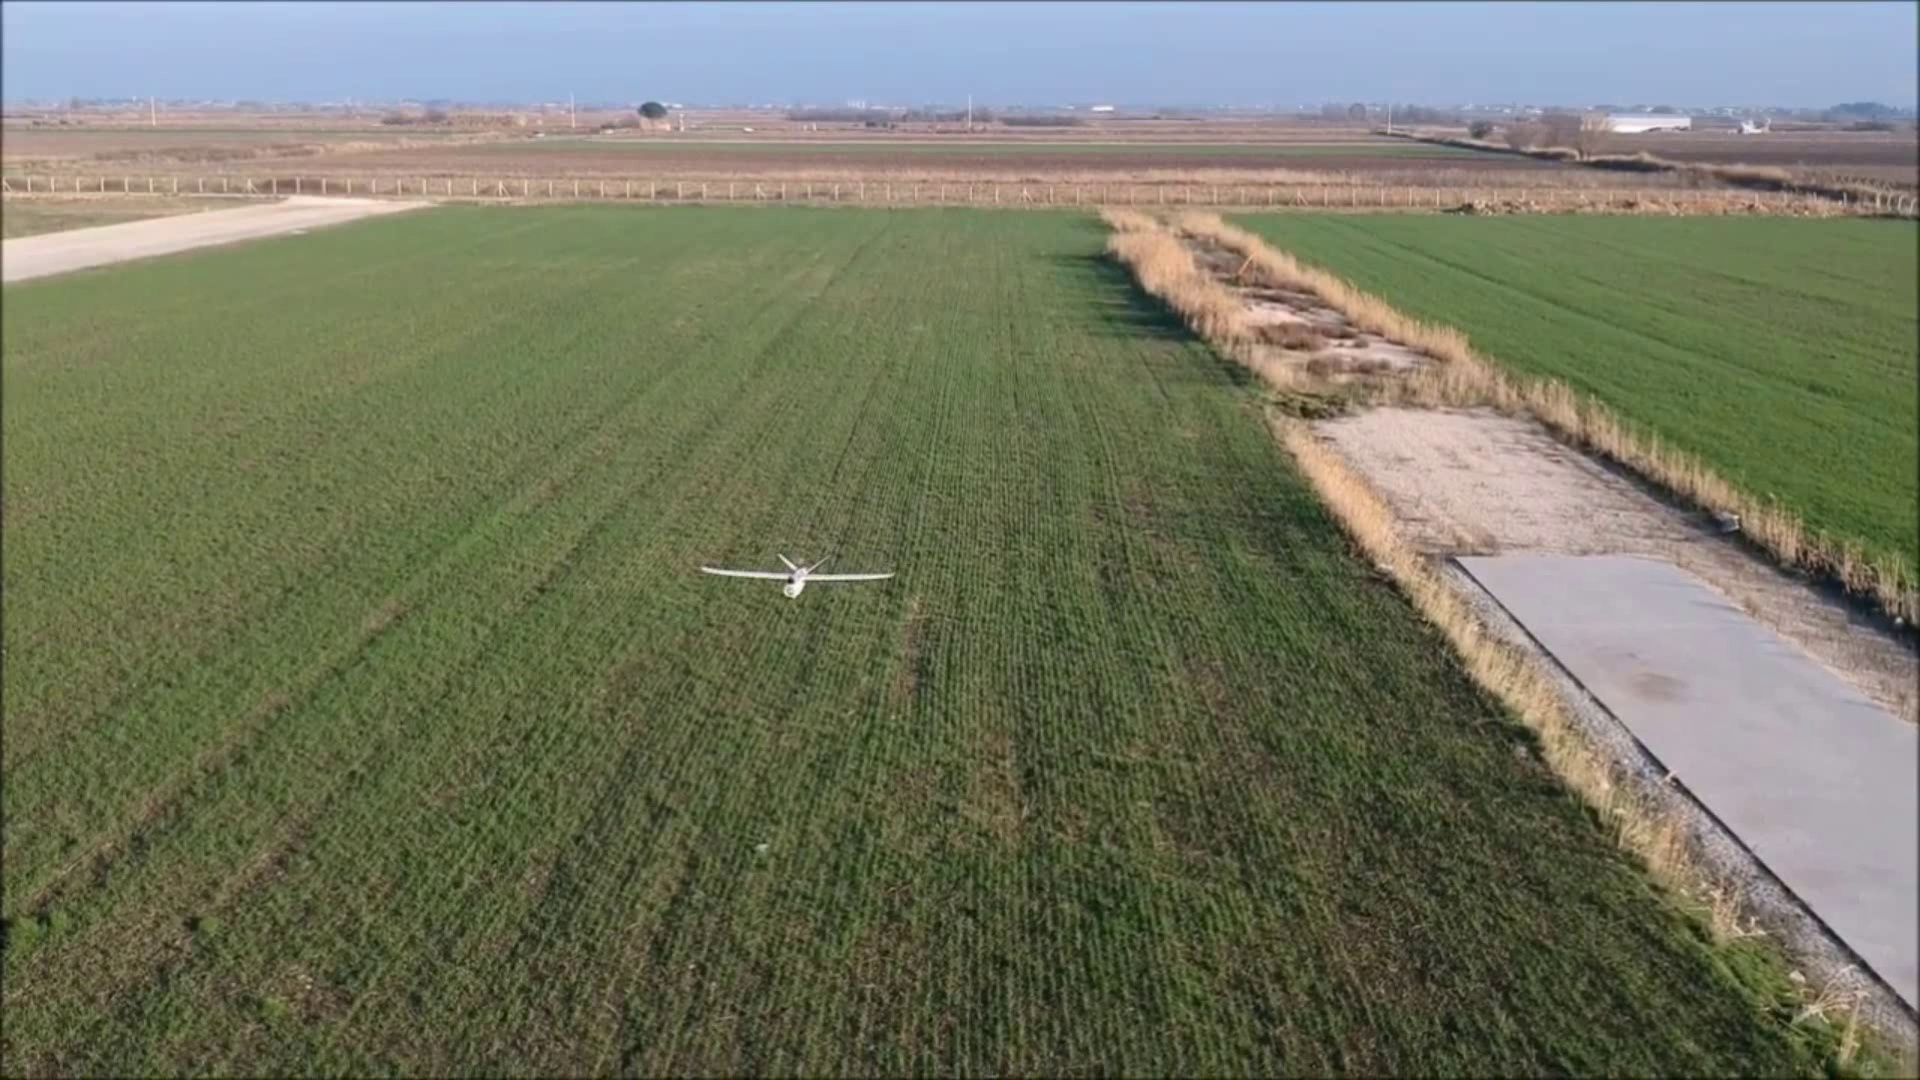airplane: (696, 553, 896, 603)
